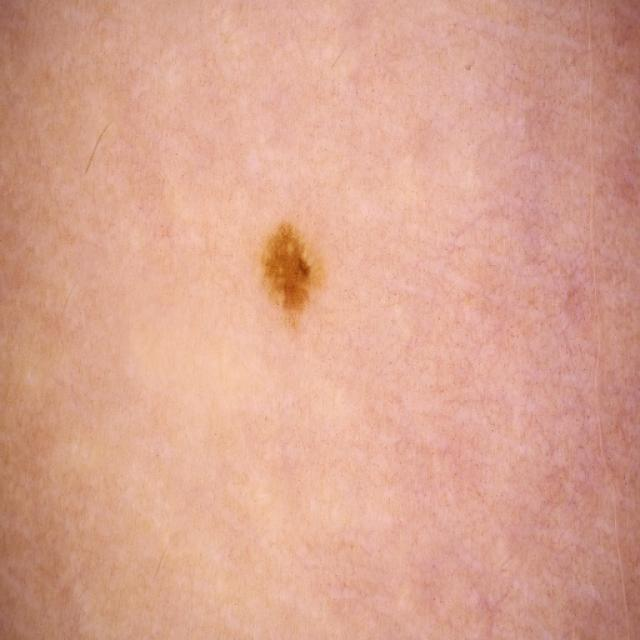Melanoma: (265, 224, 310, 309)
